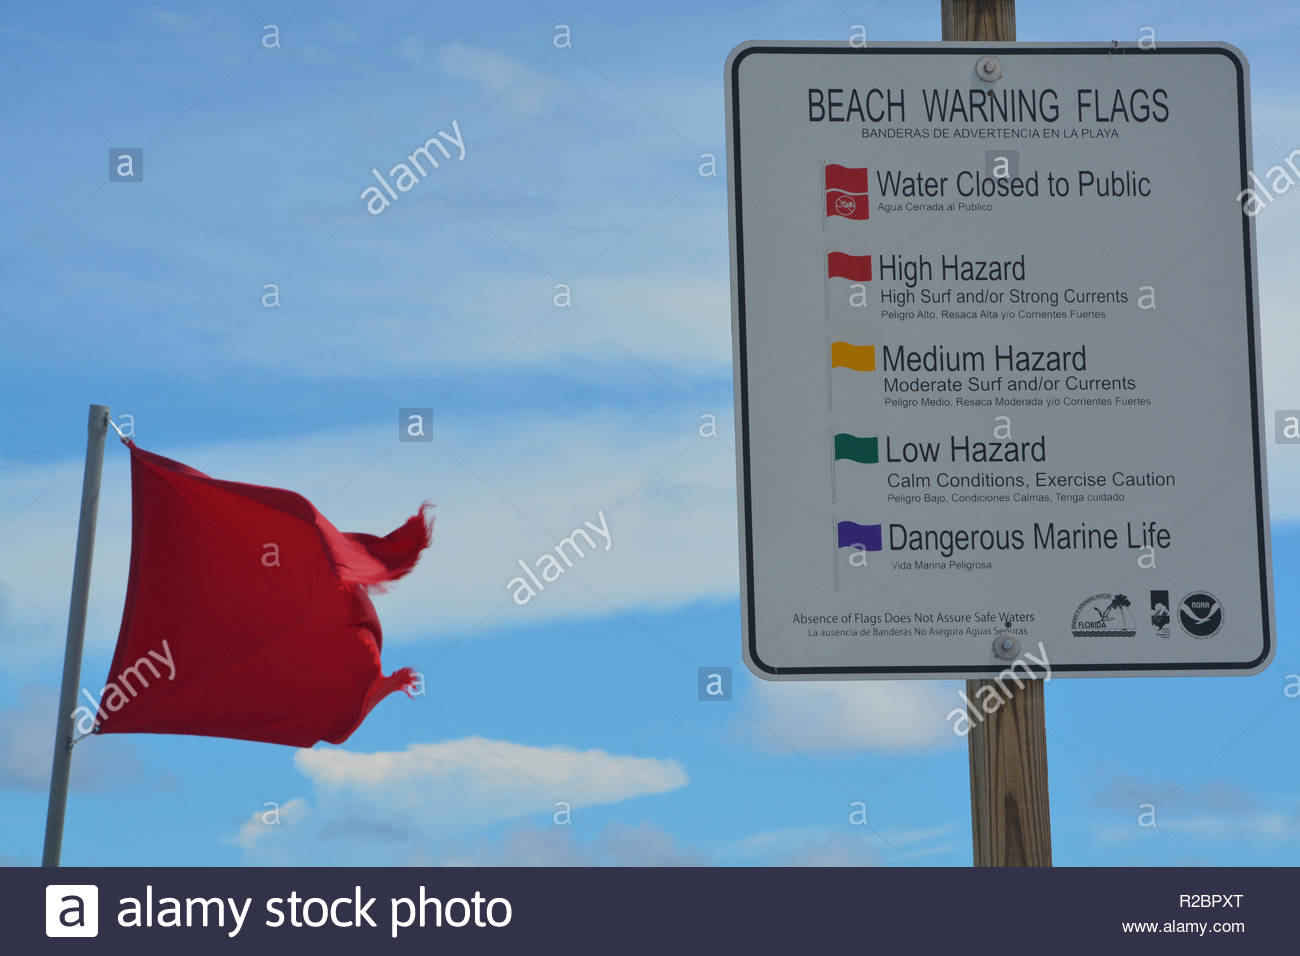Flag: (99, 434, 431, 746)
